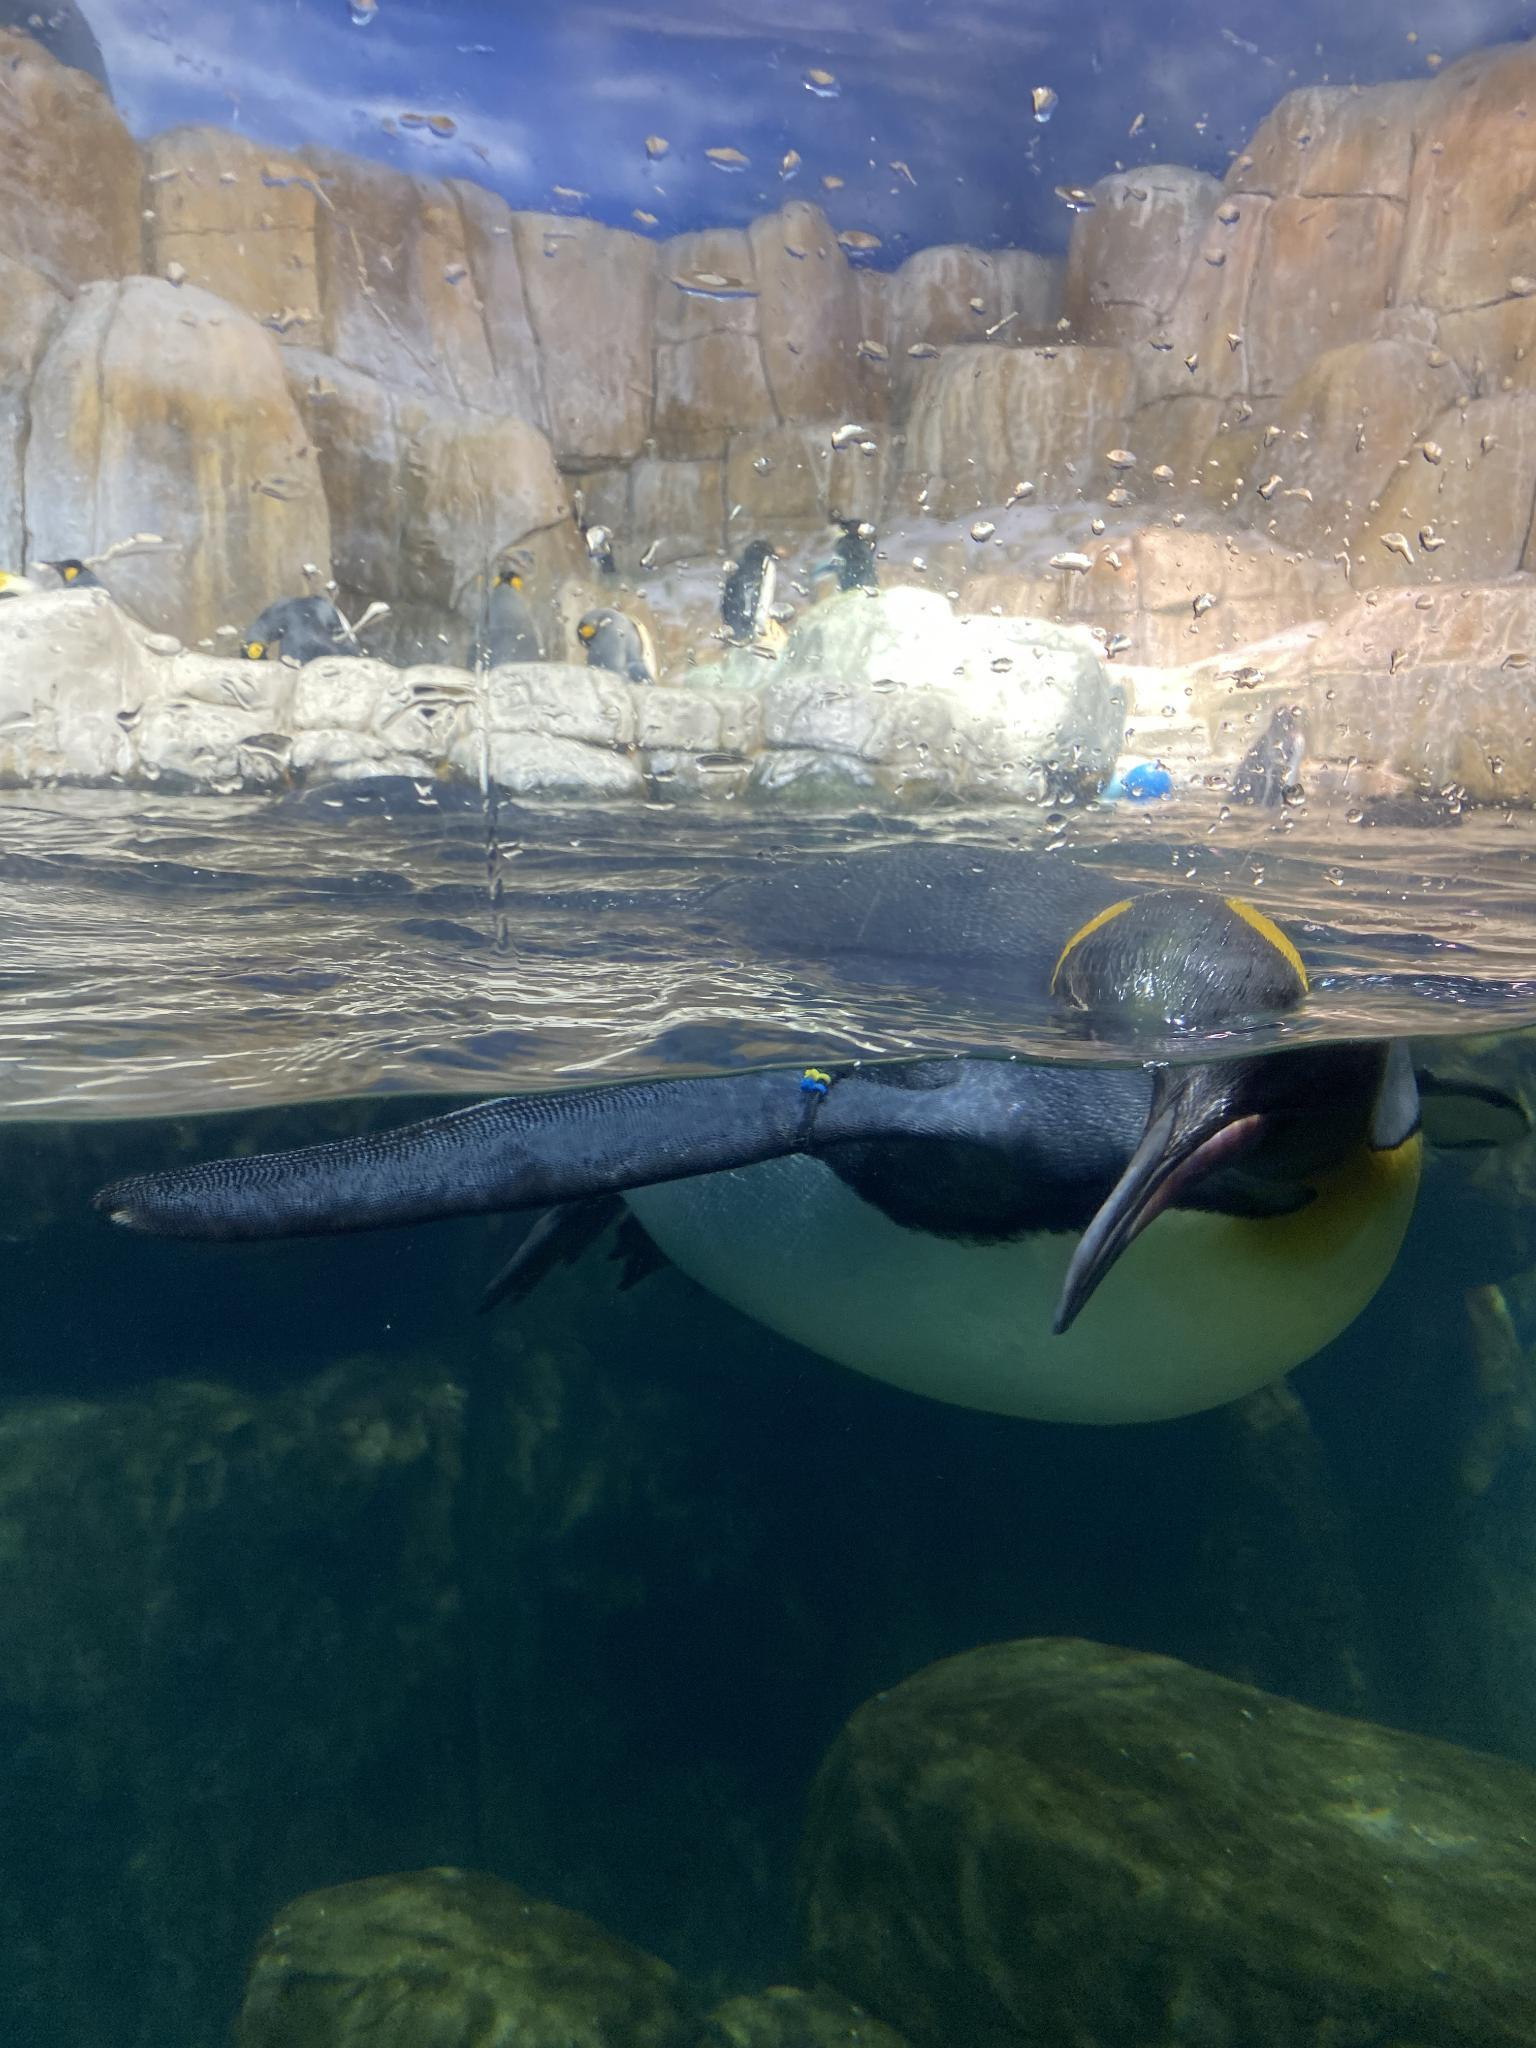penguin: (106, 914, 1528, 1434), (234, 579, 358, 676), (476, 560, 532, 710), (565, 597, 663, 681), (724, 534, 791, 639), (50, 545, 95, 606)
